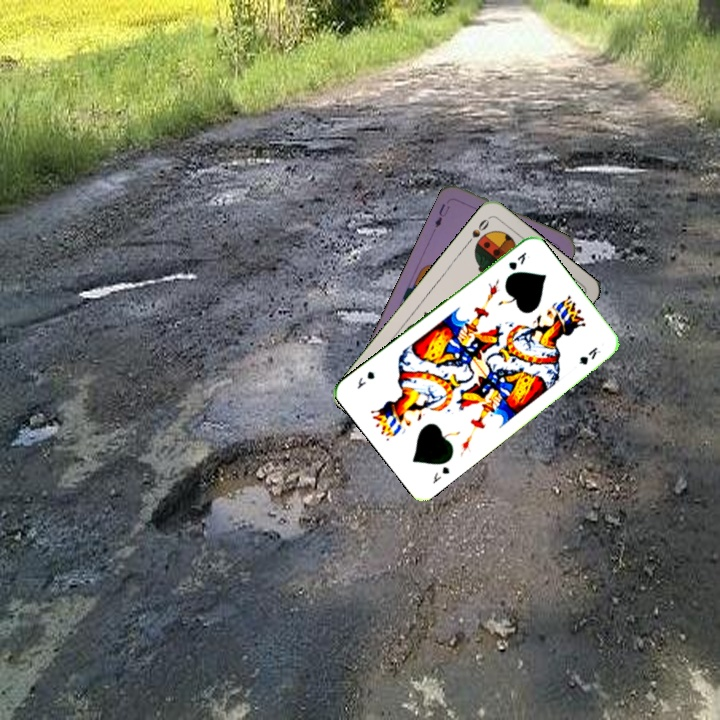EU: (430, 200, 452, 230)
GK: (504, 248, 529, 273), (428, 462, 452, 486)
SO: (462, 215, 492, 247)
